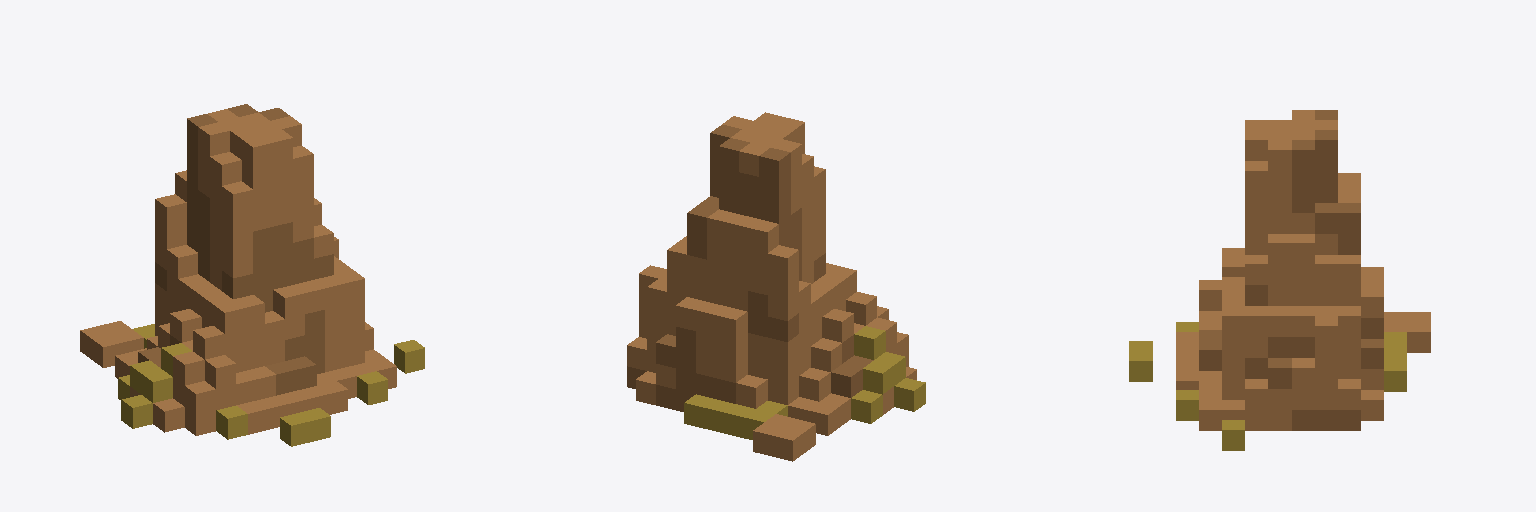
The picture shows the model from 3 angles: view 1: azimuth 30°, elevation 25°; view 2: azimuth 150°, elevation 25°; view 3: azimuth 270°, elevation 25°; orthographic projection.
Parts seen in each view (by area): view 1: object 1; view 2: object 1; view 3: object 1.
Boxes of the visible parts, x1,y1,x2,y2 form: object 1: [80, 104, 424, 446]; object 1: [627, 112, 925, 461]; object 1: [1129, 110, 1430, 450].
Size of the model in its own units: 1.4 by 1.2 by 1.3.
Materials: 1 (1 with a texture image).